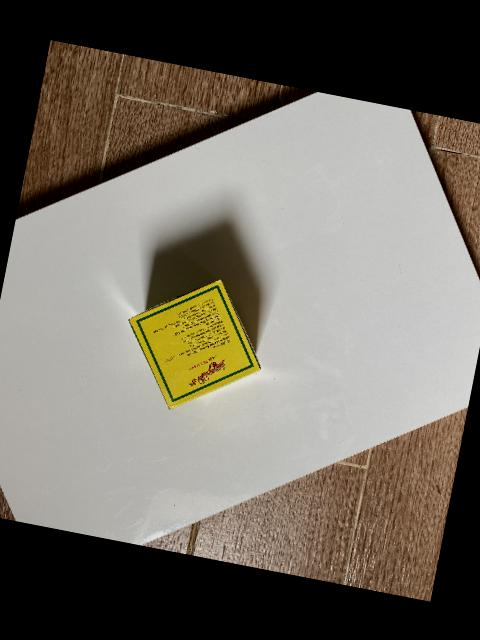luong_kho: (128, 278, 261, 409)
